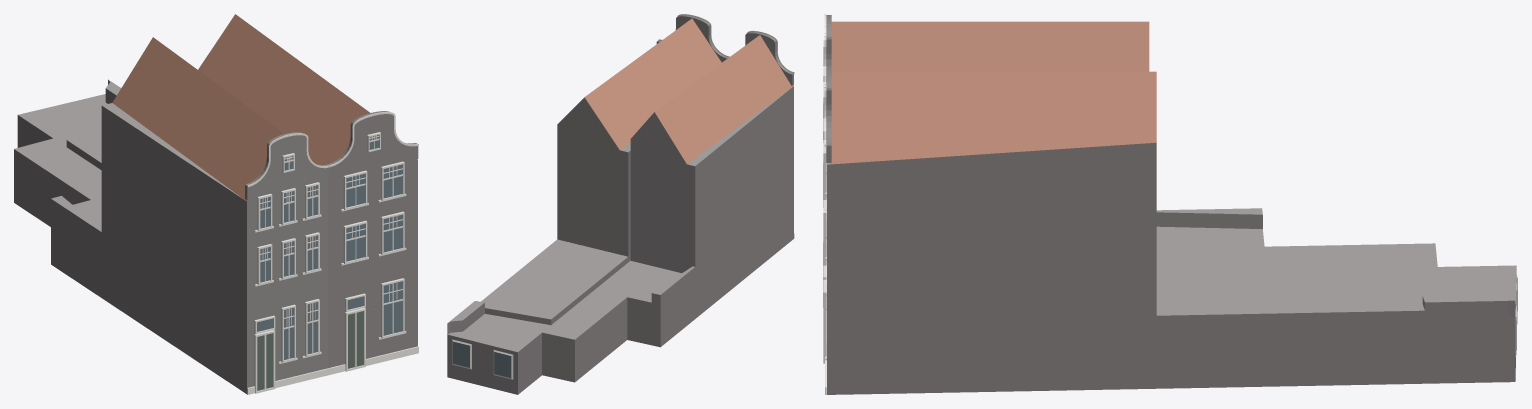
The model's file is chunk-face-lauriergracht-71-127-h2.glb.
3 views of the same model, side by side, from view 1: azimuth 30°, elevation 25°; view 2: azimuth 150°, elevation 25°; view 3: azimuth 270°, elevation 25° (orthographic). The views are drawn at different scales.
Parts seen in each view (by area): view 1: face-lauriergracht-71-127-h2; view 2: face-lauriergracht-71-127-h2; view 3: face-lauriergracht-71-127-h2.
Boxes of the visible parts, x1,y1,x2,y2 form: face-lauriergracht-71-127-h2: [14, 14, 418, 394]; face-lauriergracht-71-127-h2: [447, 14, 794, 394]; face-lauriergracht-71-127-h2: [823, 14, 1517, 394].
Bounding box in the file's own units: 8.99 × 11.62 × 24.45.
